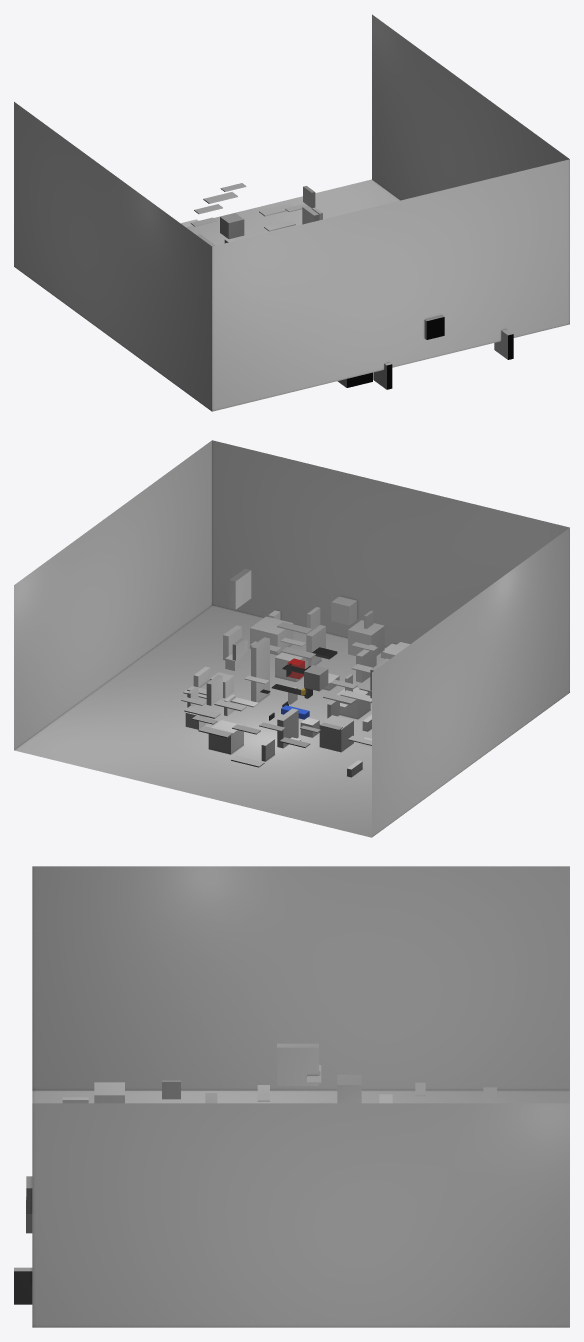
Rendered from GORIN_GLTF_COLOR_BAKED.gltf.
3 renders of one model, top to bottom at view 1: azimuth 30°, elevation 25°; view 2: azimuth 150°, elevation 25°; view 3: azimuth 270°, elevation 25°, orthographic. The views are drawn at different scales.
Visible parts, largest first — view 1: CUBE, RANDOM_BOX, RANDOM_PLATE; view 2: CUBE, RANDOM_BOX, RANDOM_PLATE, 3D; view 3: CUBE, RANDOM_BOX, RANDOM_PLATE.
Boxes of the visible parts, x1,y1,x2,y2 form: CUBE: [14, 14, 569, 411]; RANDOM_BOX: [197, 186, 513, 389]; RANDOM_PLATE: [181, 183, 309, 231]; CUBE: [14, 440, 569, 837]; RANDOM_BOX: [185, 568, 409, 777]; RANDOM_PLATE: [181, 622, 377, 767]; 3D: [260, 647, 337, 720]; CUBE: [32, 866, 569, 1327]; RANDOM_BOX: [14, 1043, 361, 1304]; RANDOM_PLATE: [205, 1065, 496, 1103].
Bounding box in the file's own units: 86138 × 42501 × 85405.
Materials: 4 (4 with a texture image).
